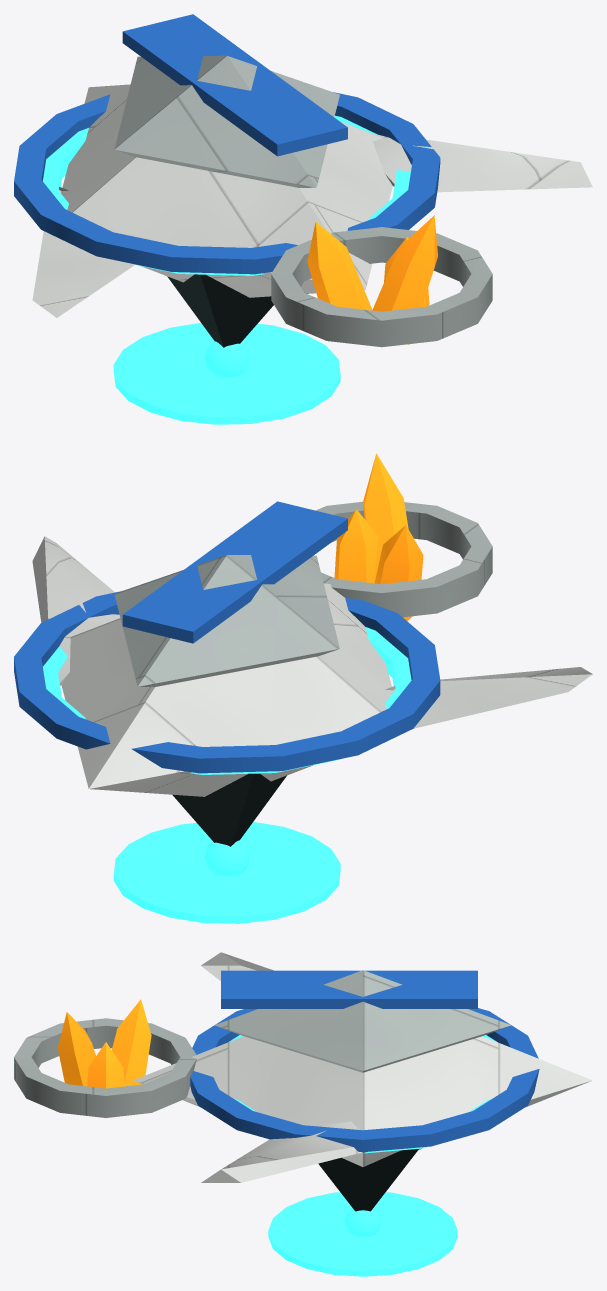
The model's file is energia_drone_extrator.glb.
3 renders of one model, top to bottom at view 1: azimuth 30°, elevation 25°; view 2: azimuth 150°, elevation 25°; view 3: azimuth 270°, elevation 25°, orthographic. The views are drawn at different scales.
Visible parts, largest first — view 1: Body_Shell, Body_TeamColor, Body_ShellAlt, Body_Glow, Body_Ore, Body_Core; view 2: Body_Shell, Body_TeamColor, Body_ShellAlt, Body_Glow, Body_Ore, Body_Core; view 3: Body_Shell, Body_ShellAlt, Body_TeamColor, Body_Glow, Body_Ore, Body_Core.
Boxes of the visible parts, x1,y1,x2,y2 form: Body_Shell: (32, 84, 592, 317); Body_TeamColor: (14, 14, 440, 274); Body_ShellAlt: (114, 55, 492, 347); Body_Glow: (43, 115, 410, 424); Body_Ore: (307, 215, 437, 344); Body_Core: (167, 274, 273, 347); Body_Shell: (32, 536, 592, 796); Body_TeamColor: (14, 501, 440, 773); Body_ShellAlt: (114, 501, 492, 686); Body_Glow: (43, 615, 411, 923); Body_Ore: (334, 453, 423, 621); Body_Core: (172, 773, 286, 846); Body_Shell: (133, 952, 592, 1182); Body_ShellAlt: (14, 970, 511, 1117); Body_TeamColor: (190, 970, 539, 1152); Body_Glow: (229, 1035, 496, 1276); Body_Ore: (58, 999, 151, 1088); Body_Core: (318, 1149, 418, 1211).
Bounding box in the file's own units: 3.8 × 2.19 × 4.28.
Materials: 6 (2 with a texture image).
